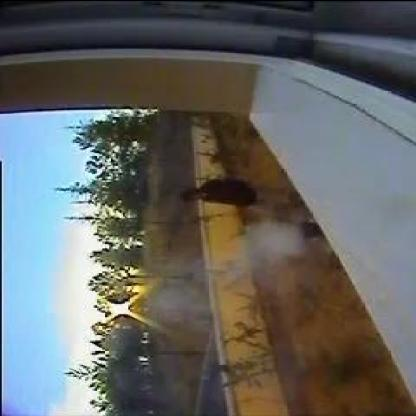-: (235, 230, 297, 268)
